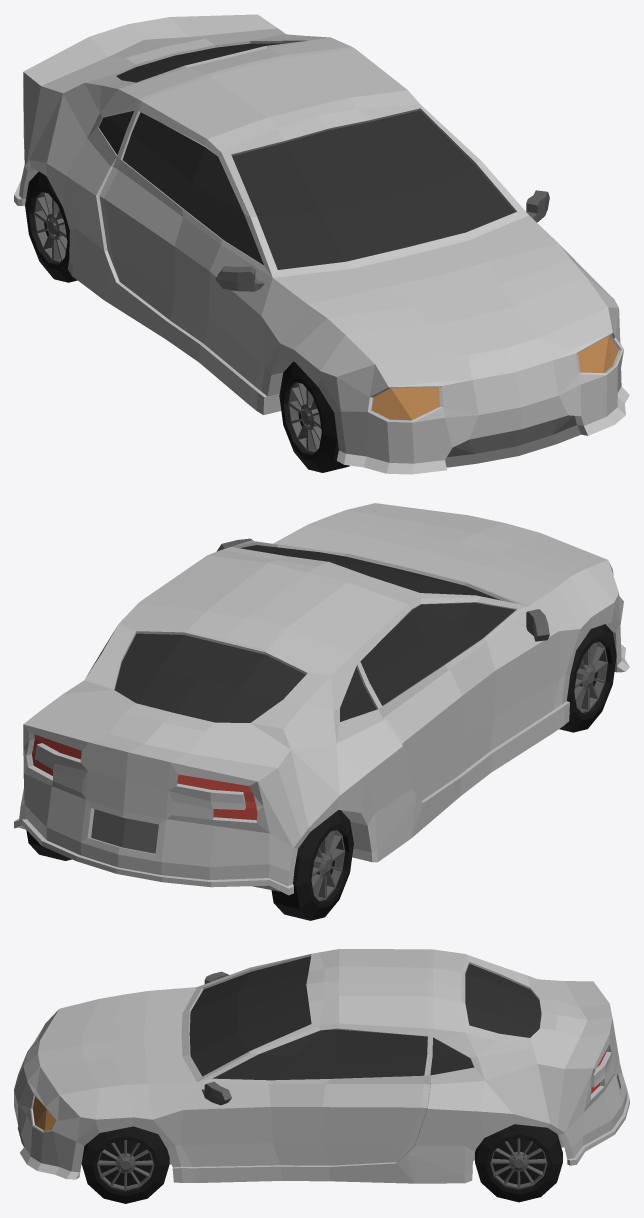
The model's file is SportsCar2.glb.
3 renders of one model, top to bottom at view 1: azimuth 30°, elevation 25°; view 2: azimuth 150°, elevation 25°; view 3: azimuth 270°, elevation 25°, orthographic. The views are drawn at different scales.
Parts seen in each view (by area): view 1: SportsCar2, SportsCar2_FrontRightWheel, SportsCar2_BackWheels; view 2: SportsCar2, SportsCar2_BackWheels, SportsCar2_FrontRightWheel; view 3: SportsCar2, SportsCar2_BackWheels, SportsCar2_FrontLeftWheel.
Boxes of the visible parts, box(x1,y1,x2,y2) form: SportsCar2: box(14, 14, 629, 474); SportsCar2_FrontRightWheel: box(279, 361, 349, 472); SportsCar2_BackWheels: box(25, 171, 77, 282); SportsCar2: box(14, 503, 629, 895); SportsCar2_BackWheels: box(26, 810, 353, 920); SportsCar2_FrontRightWheel: box(559, 624, 616, 732); SportsCar2: box(14, 949, 629, 1183); SportsCar2_BackWheels: box(475, 1124, 562, 1202); SportsCar2_FrontLeftWheel: box(81, 1126, 169, 1203).
Size of the model in its own units: 1.87 by 1.2 by 3.93.
